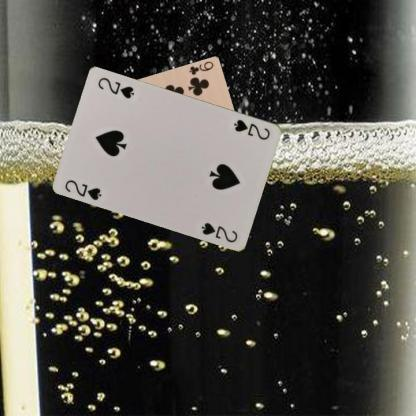2s: (63, 176, 104, 202), (231, 117, 272, 141)
9c: (186, 59, 214, 76)
